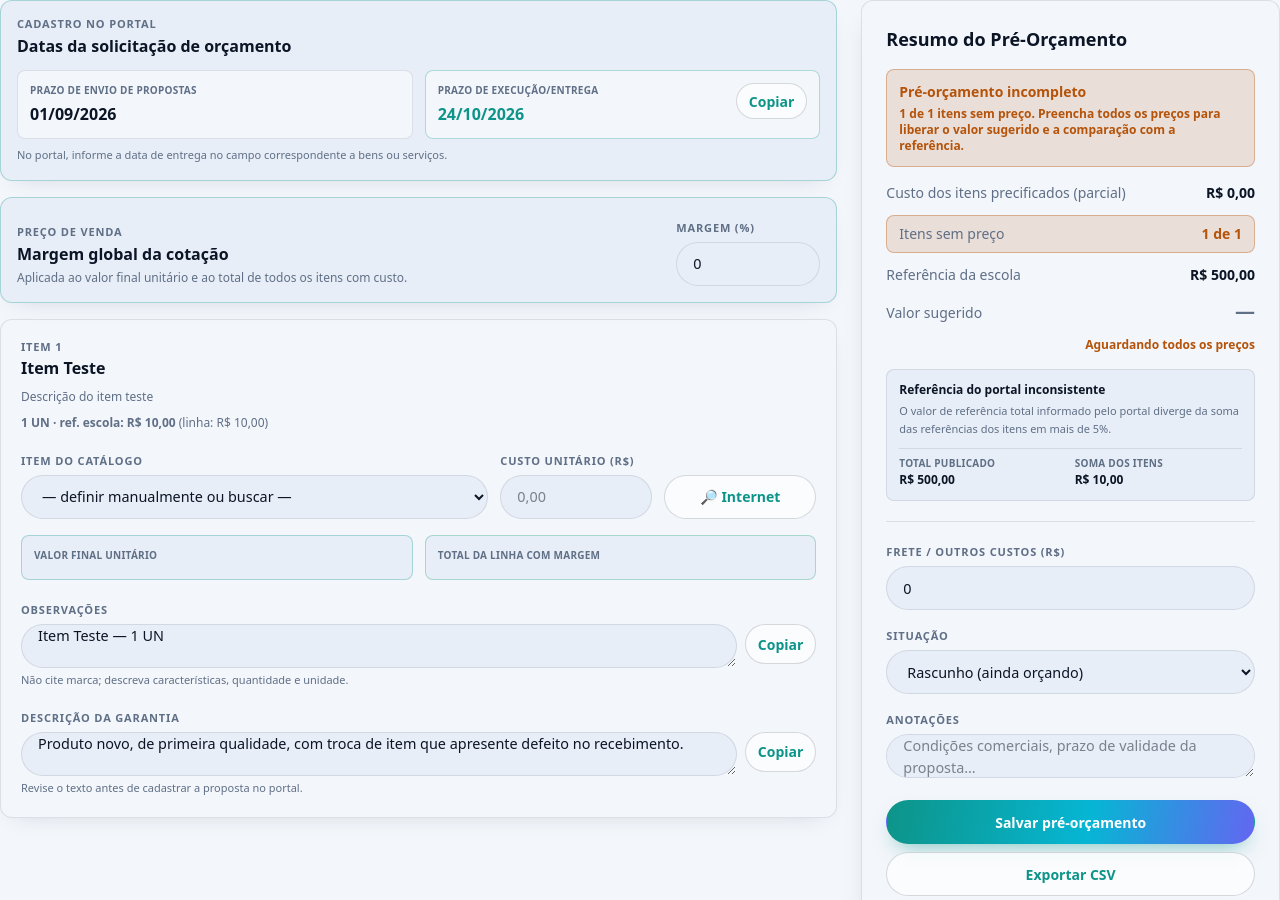
PrequoteWorksheet - Sugestões Automáticas › exibe e copia prazo de entrega, sem inventar data quando ausente
This screenshot has width=1280, height=900.
What coordinates should you click on to do the following:
click the button with aria-label "Copiar prazo de execução/entrega"
I would click on:
 (772, 101)
Its box is [736,83,807,119].
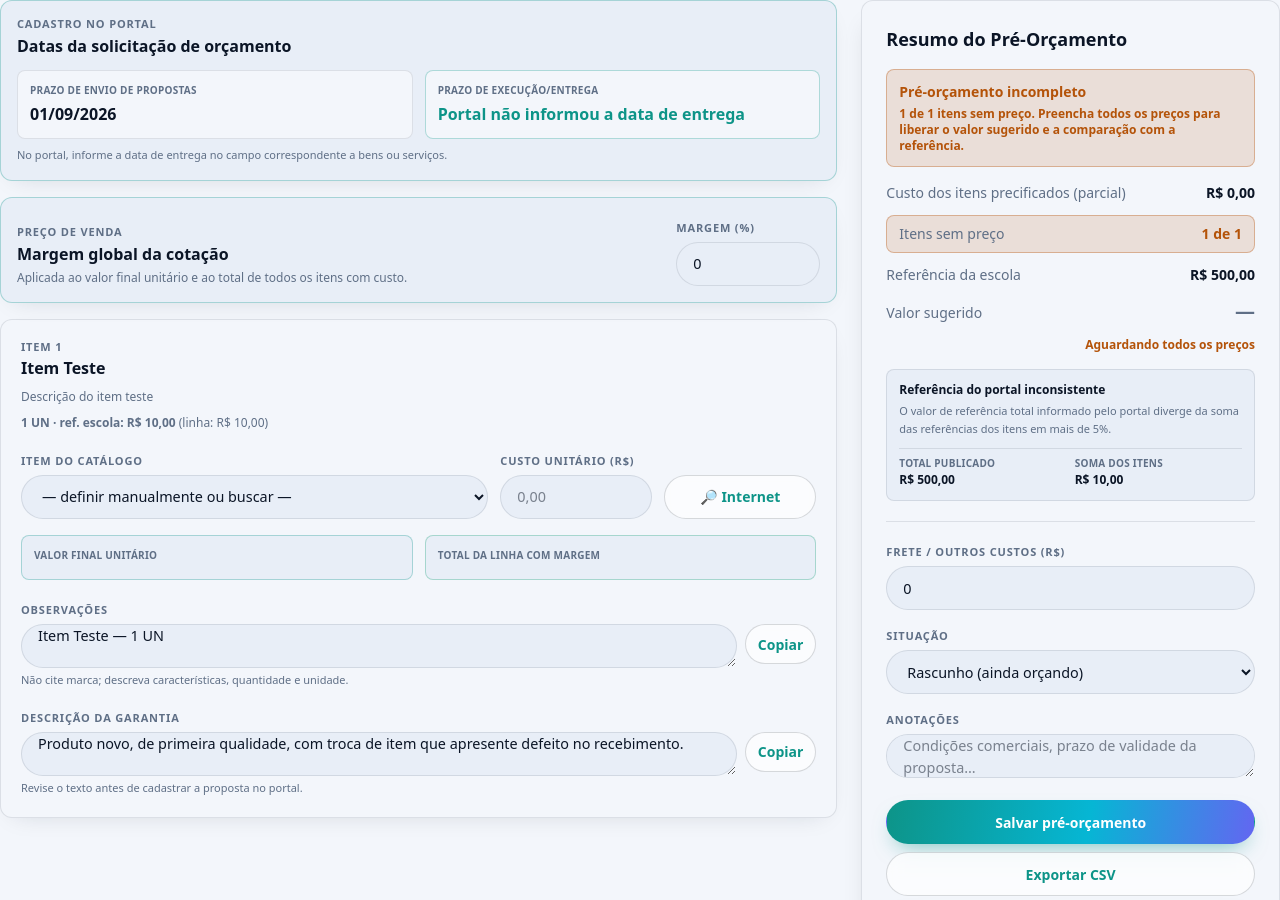
Check: the text "Portal não informou a data de entrega" is shown, box [438,102,745,126]
Check: the text "24/10/2026" is gone
